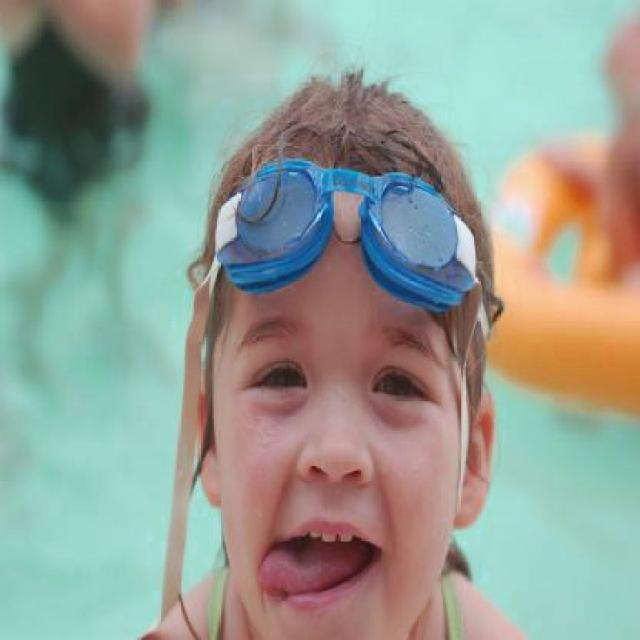face_nomask: (243, 338, 432, 608)
glasses: (207, 154, 490, 338)
head_nohelmet: (198, 53, 510, 322)
